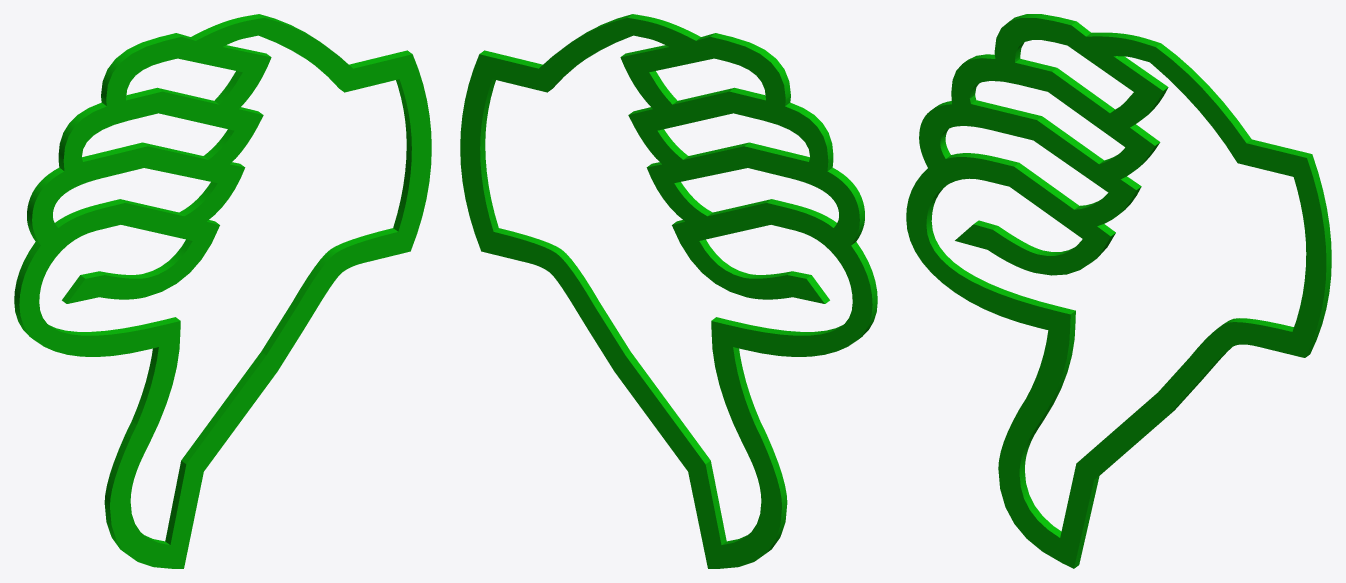
Rendered from Thumb Down.fbx.
The picture shows the model from 3 angles, left to right: view 1: azimuth 30°, elevation 25°; view 2: azimuth 150°, elevation 25°; view 3: azimuth 330°, elevation 25°; orthographic projection.
Visible parts, largest first — view 1: TextPlus; view 2: TextPlus; view 3: TextPlus.
Part boxes in pixels (x1,y1,x2,y2): TextPlus: [14, 14, 431, 568]; TextPlus: [460, 14, 877, 568]; TextPlus: [906, 14, 1331, 568].
Bounding box in the file's own units: 4.56 × 5.63 × 0.1.
